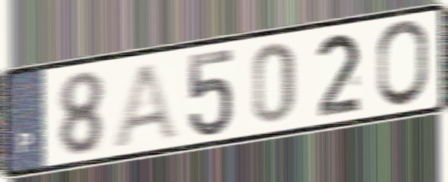0: (249, 39, 299, 128)
2: (315, 31, 363, 120)
5: (184, 45, 236, 139)
8: (54, 68, 108, 158)
A: (109, 58, 184, 148)
O: (375, 18, 432, 111)
